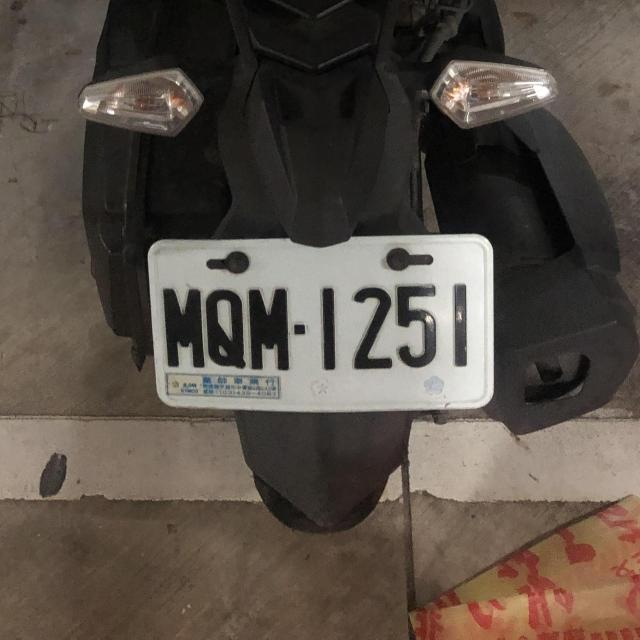W: (140, 224, 502, 421)
